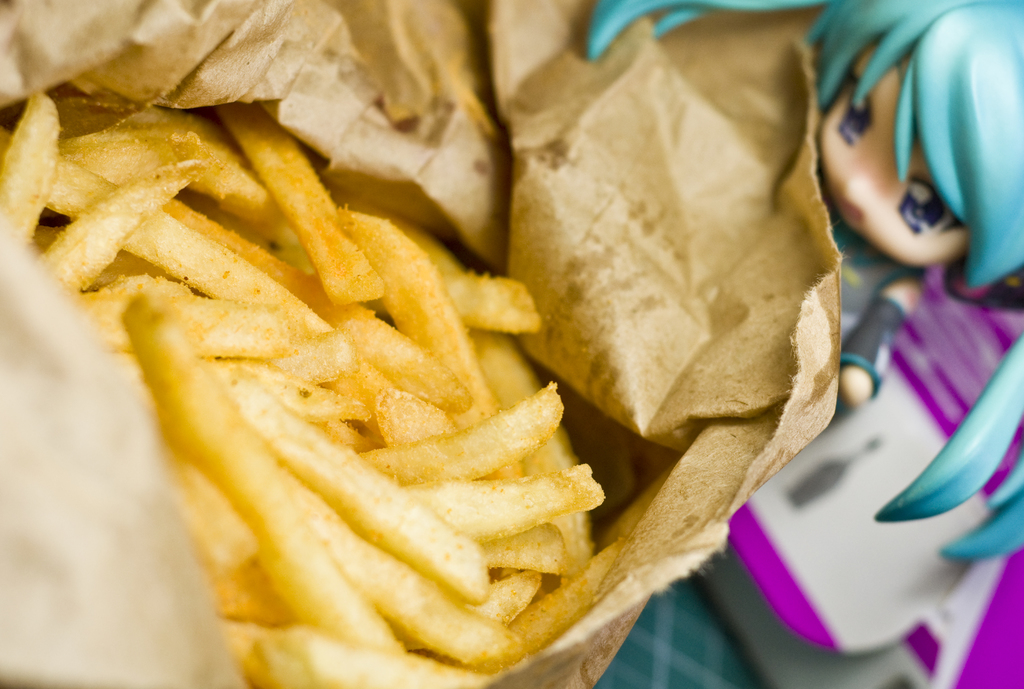French fries: (0, 81, 610, 688)
